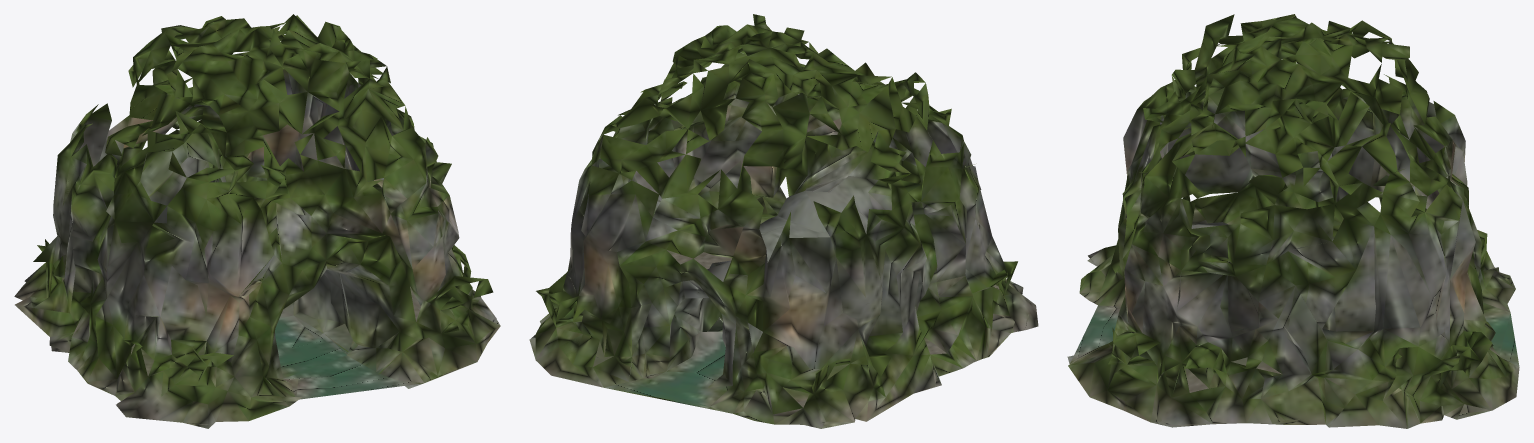
The model's file is av_rivercave_xfar.glb.
3 views of the same model, side by side, from view 1: azimuth 30°, elevation 25°; view 2: azimuth 150°, elevation 25°; view 3: azimuth 270°, elevation 25° (orthographic). The views are drawn at different scales.
Visible parts, largest first — view 1: av_rivercave; view 2: av_rivercave; view 3: av_rivercave.
Part boxes in pixels (x1=…): av_rivercave: x1=14, y1=14, x2=500, y2=428; av_rivercave: x1=529, y1=14, x2=1038, y2=428; av_rivercave: x1=1067, y1=14, x2=1519, y2=428.
Size of the model in its own units: 1.86 by 1.35 by 1.83.
Materials: 1 (1 with a texture image).
